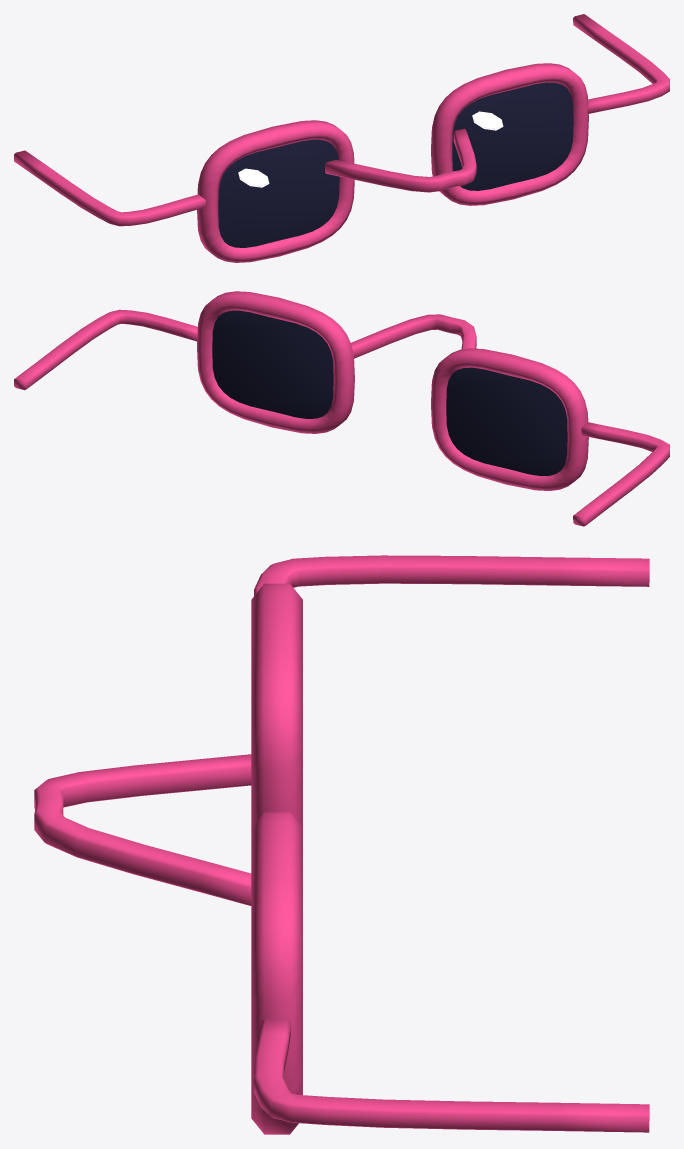
The model's file is sunglasses-fox.glb.
The picture shows the model from 3 angles, top to bottom: view 1: azimuth 30°, elevation 25°; view 2: azimuth 150°, elevation 25°; view 3: azimuth 270°, elevation 25°; orthographic projection. The views are drawn at different scales.
Parts seen in each view (by area): view 1: lens.001, lens, rim, rim.001, temple.001, bridge, temple, shine, shine.001; view 2: lens, lens.001, rim, rim.001, temple, temple.001, bridge; view 3: bridge, temple, rim, rim.001, temple.001.
Boxes of the visible parts, x1=… form: lens.001: x1=218, y1=139, x2=339, y2=247; lens: x1=452, y1=82, x2=573, y2=190; rim: x1=431, y1=63, x2=588, y2=205; rim.001: x1=197, y1=120, x2=354, y2=262; temple.001: x1=14, y1=150, x2=205, y2=226; bridge: x1=325, y1=128, x2=476, y2=192; temple: x1=573, y1=14, x2=669, y2=113; shine: x1=472, y1=111, x2=503, y2=130; shine.001: x1=238, y1=168, x2=269, y2=187; lens: x1=212, y1=310, x2=333, y2=418; lens.001: x1=446, y1=367, x2=567, y2=475; rim: x1=197, y1=291, x2=354, y2=433; rim.001: x1=431, y1=348, x2=588, y2=490; temple: x1=14, y1=309, x2=197, y2=390; temple.001: x1=573, y1=422, x2=669, y2=526; bridge: x1=351, y1=314, x2=476, y2=358; bridge: x1=34, y1=754, x2=251, y2=905; temple: x1=254, y1=1019, x2=649, y2=1132; rim: x1=251, y1=812, x2=302, y2=1134; rim.001: x1=251, y1=583, x2=302, y2=827; temple.001: x1=254, y1=555, x2=649, y2=595.
Bounding box in the file's own units: 1.33 × 0.2784 × 0.6196.
